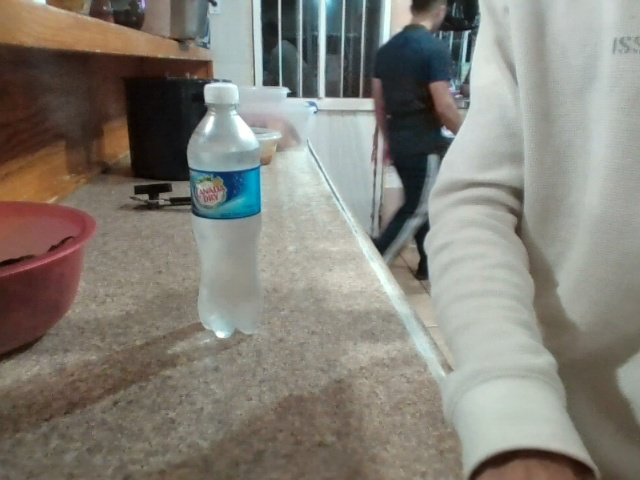botella: (155, 65, 324, 346)
